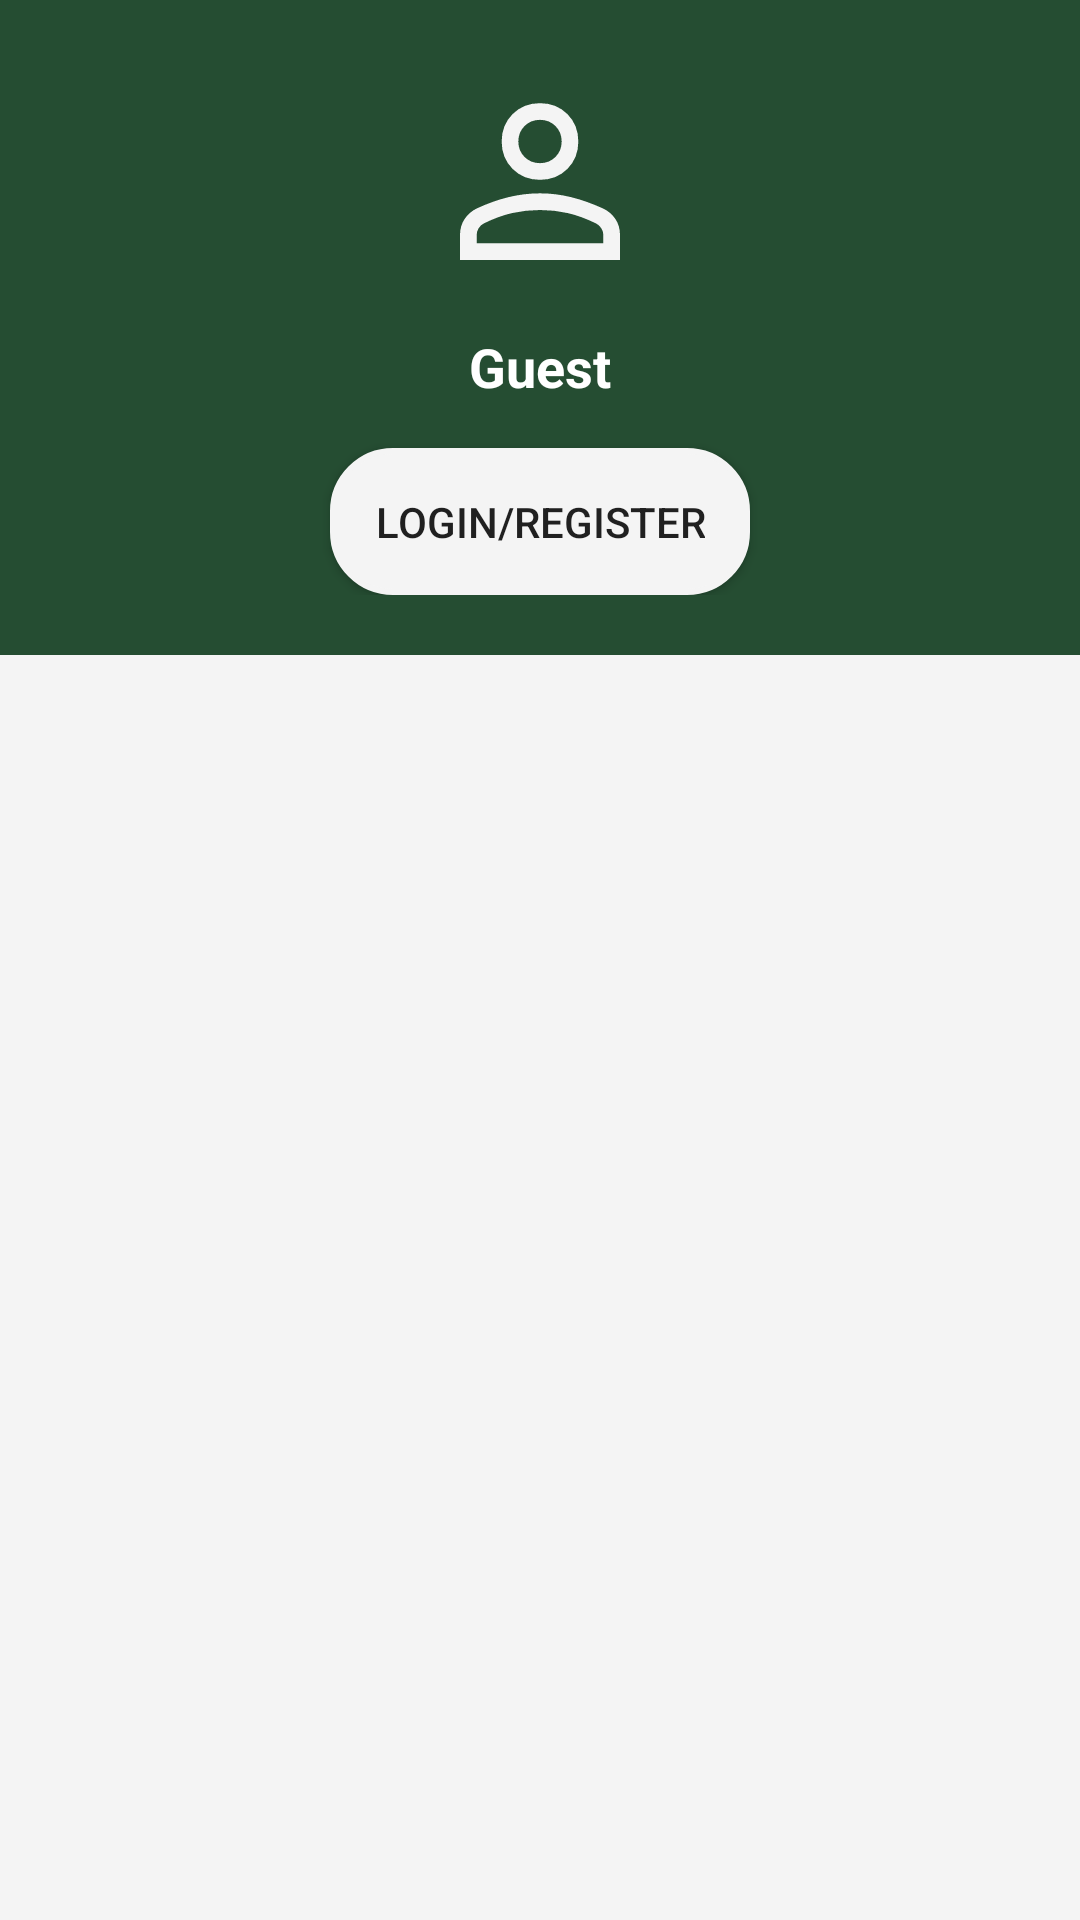

Named icons in this screenshot (1080px×1920px) and their bounding boxes, Rect(x1, y1, x2, y2):
person: Rect(460, 103, 620, 260)
